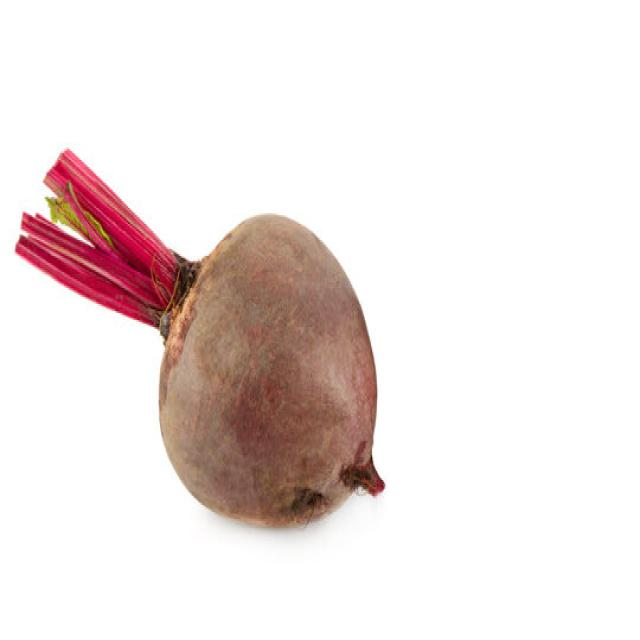Beetroot: (13, 146, 385, 528)
